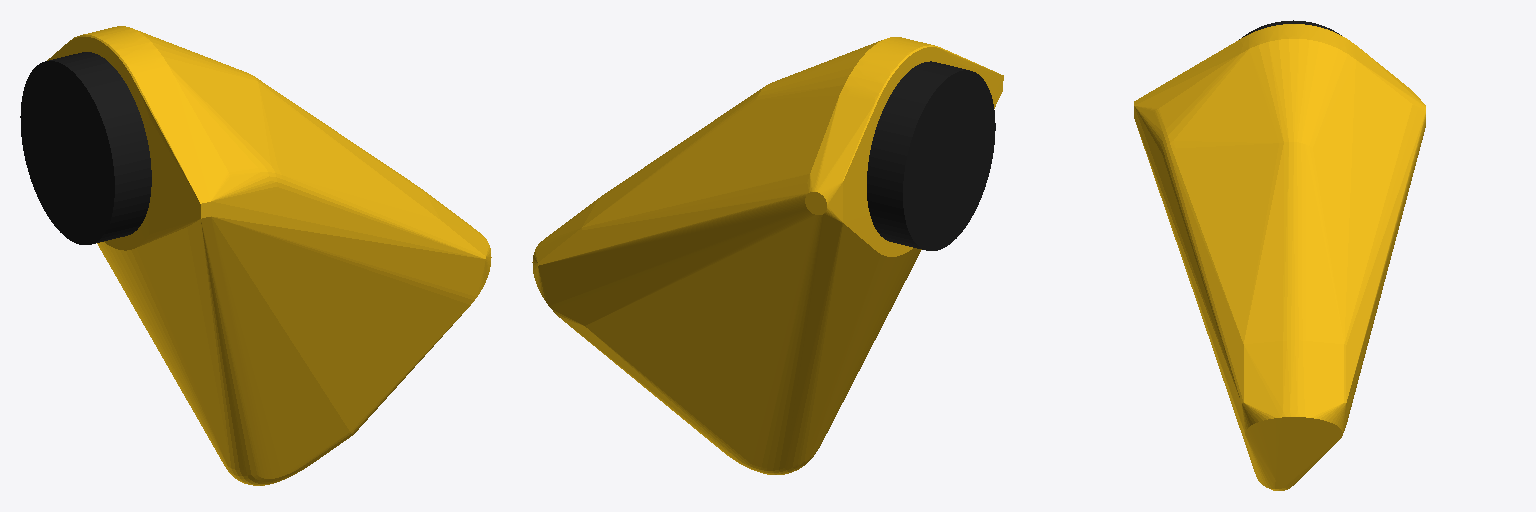
The robot description file, URDF, robot "fanuc_r2000ic165f":
<?xml version="1.0" encoding="utf-8" ?>
<!-- =================================================================================== -->
<!-- |    This document was autogenerated by xacro from r2000ic165f.xacro              | -->
<!-- |    EDITING THIS FILE BY HAND IS NOT RECOMMENDED                                 | -->
<!-- =================================================================================== -->
<robot name="fanuc_r2000ic165f">
  <!-- links: main serial chain -->
  <link name="base_link">
    <visual>
      <origin rpy="0 0 0" xyz="0 0 0"/>
      <geometry>
        <mesh filename="package://fanuc_r2000ic_support/meshes/r2000ic165f/visual/base_link.stl"/>
      </geometry>
      <material name="">
        <color rgba="0.4 0.4 0.4 1.0"/>
      </material>
    </visual>
    <collision>
      <origin rpy="0 0 0" xyz="0 0 0"/>
      <geometry>
        <mesh filename="package://fanuc_r2000ic_support/meshes/r2000ic165f/collision/base_link.stl"/>
      </geometry>
    </collision>
  </link>
  <link name="link_1">
    <visual>
      <origin rpy="0 0 0" xyz="0 0 0"/>
      <geometry>
        <mesh filename="package://fanuc_r2000ic_support/meshes/r2000ic165f/visual/link_1.stl"/>
      </geometry>
      <material name="">
        <color rgba="0.96 0.76 0.13 1.0"/>
      </material>
    </visual>
    <collision>
      <origin rpy="0 0 0" xyz="0 0 0"/>
      <geometry>
        <mesh filename="package://fanuc_r2000ic_support/meshes/r2000ic165f/collision/link_1.stl"/>
      </geometry>
    </collision>
  </link>
  <link name="link_2">
    <visual>
      <origin rpy="0 0 0" xyz="0 0 0"/>
      <geometry>
        <mesh filename="package://fanuc_r2000ic_support/meshes/r2000ic165f/visual/link_2.stl"/>
      </geometry>
      <material name="">
        <color rgba="0.96 0.76 0.13 1.0"/>
      </material>
    </visual>
    <collision>
      <origin rpy="0 0 0" xyz="0 0 0"/>
      <geometry>
        <mesh filename="package://fanuc_r2000ic_support/meshes/r2000ic165f/collision/link_2.stl"/>
      </geometry>
    </collision>
  </link>
  <link name="link_3">
    <visual>
      <origin rpy="0 0 0" xyz="0 0 0"/>
      <geometry>
        <mesh filename="package://fanuc_r2000ic_support/meshes/r2000ic165f/visual/link_3.stl"/>
      </geometry>
      <material name="">
        <color rgba="0.96 0.76 0.13 1.0"/>
      </material>
    </visual>
    <collision>
      <origin rpy="0 0 0" xyz="0 0 0"/>
      <geometry>
        <mesh filename="package://fanuc_r2000ic_support/meshes/r2000ic165f/collision/link_3.stl"/>
      </geometry>
    </collision>
  </link>
  <link name="link_4">
    <visual>
      <origin rpy="0 0 0" xyz="0 0 0"/>
      <geometry>
        <mesh filename="package://fanuc_r2000ic_support/meshes/r2000ic165f/visual/link_4.stl"/>
      </geometry>
      <material name="">
        <color rgba="0.96 0.76 0.13 1.0"/>
      </material>
    </visual>
    <collision>
      <origin rpy="0 0 0" xyz="0 0 0"/>
      <geometry>
        <mesh filename="package://fanuc_r2000ic_support/meshes/r2000ic165f/collision/link_4.stl"/>
      </geometry>
    </collision>
  </link>
  <link name="link_5">
    <visual>
      <origin rpy="0 0 0" xyz="0 0 0"/>
      <geometry>
        <mesh filename="package://fanuc_r2000ic_support/meshes/r2000ic165f/visual/link_5.stl"/>
      </geometry>
      <material name="">
        <color rgba="0.96 0.76 0.13 1.0"/>
      </material>
    </visual>
    <collision>
      <origin rpy="0 0 0" xyz="0 0 0"/>
      <geometry>
        <mesh filename="package://fanuc_r2000ic_support/meshes/r2000ic165f/collision/link_5.stl"/>
      </geometry>
    </collision>
  </link>
  <link name="link_6">
    <visual>
      <origin rpy="0 0 0" xyz="0 0 0"/>
      <geometry>
        <mesh filename="package://fanuc_r2000ic_support/meshes/r2000ic165f/visual/link_6.stl"/>
      </geometry>
      <material name="">
        <color rgba="0.15 0.15 0.15 1.0"/>
      </material>
    </visual>
    <collision>
      <origin rpy="0 0 0" xyz="0 0 0"/>
      <geometry>
        <mesh filename="package://fanuc_r2000ic_support/meshes/r2000ic165f/collision/link_6.stl"/>
      </geometry>
    </collision>
  </link>
  <link name="ef">
      <visual>
        <origin rpy="0 0 0" xyz="0 0 0"/>
        <geometry>
          <mesh filename="package://fanuc_r2000ic_support/meshes/r2000ic165f/visual/ef.stl"/>
        </geometry>
        <material name="">
          <color rgba="0.96 0.76 0.13 1.0"/>
        </material>
      </visual>
      <collision>
        <origin rpy="0 0 0" xyz="0 0 0"/>
        <geometry>
          <mesh filename="package://fanuc_r2000ic_support/meshes/r2000ic165f/collision/ef.stl"/>
        </geometry>
      </collision>
    </link>

<!--
<link name="part_link">
  <visual>
    <origin xyz="0 0 0" rpy="0 0 0"/>
    <geometry>
      <mesh filename="package://fanuc_r2000ic_support/meshes/r2000ic165f/visual/sandpart.stl"/>
    </geometry>
    <material name="">
      <color rgba="0.9 0.7 0.4 1.0"/>
    </material>
  </visual>

</link>

  <joint name="world_part_link" type="fixed">
      <parent link="base_link" />
      <child link="part_link" />
      <origin rpy="0 0 0" xyz="1.4 -0.4 0.6" />
  </joint>-->

<link name="gazebo_camera_link" />
<joint name="gazebo_camera_joint" type="fixed">
    <origin xyz="0.0 0.0 0.0" rpy="1.57 -1.57 0.0"/>
    <parent link="camera_link_optical"/>
    <child link="gazebo_camera_link"/>
</joint>
<link name="camera_link_optical" />
<joint name="camera_optical_joint" type="fixed">
    <origin xyz="-0.021 0.0797 0.06525" rpy="-0.7854 0 0"/>
    <parent link="link_6"/>
    <child link="camera_link_optical"/>
</joint>
<link name="camera_link" />
<joint name="camera_link_joint" type="fixed">
    <origin xyz="0.0 0.0 0.0" rpy="1.57 -1.57 0"/>
    <parent link="camera_link_optical"/>
    <child link="camera_link"/>
</joint>

  <!-- joints: main serial chain -->
  <joint name="joint_1" type="revolute">
    <origin rpy="0 0 0" xyz="0 0 0"/>
    <parent link="base_link"/>
    <child link="link_1"/>
    <axis xyz="0 0 1"/>
    <limit effort="0" lower="-3.22885911619" upper="3.22885911619" velocity="2.26892802759"/>
  </joint>
  <joint name="joint_2" type="revolute">
    <origin rpy="0 0 0" xyz="0.312 0 0.670"/>
    <parent link="link_1"/>
    <child link="link_2"/>
    <axis xyz="0 1 0"/>
    <limit effort="0" lower="-1.0471975512" upper="1.32645023152" velocity="2.00712863979"/>
  </joint>
  <joint name="joint_3" type="revolute">
    <origin rpy="0 0 0" xyz="0 0 1.075"/>
    <parent link="link_2"/>
    <child link="link_3"/>
    <axis xyz="0 -1 0"/>
    <limit effort="0" lower="-2.30383461263" upper="3.14159265359" velocity="2.18166156499"/>
  </joint>
  <joint name="joint_4" type="revolute">
    <origin rpy="0 0 0" xyz="0 0 0.225"/>
    <parent link="link_3"/>
    <child link="link_4"/>
    <axis xyz="-1 0 0"/>
    <limit effort="0" lower="-6.28318530718" upper="6.28318530718" velocity="3.14159265359"/>
  </joint>
  <joint name="joint_5" type="revolute">
    <origin rpy="0 0 0" xyz="1.280 0 0"/>
    <parent link="link_4"/>
    <child link="link_5"/>
    <axis xyz="0 -1 0"/>
    <limit effort="0" lower="-2.18166156499" upper="2.18166156499" velocity="3.14159265359"/>
  </joint>
  <joint name="joint_6" type="revolute">
    <origin rpy="0 0 0" xyz="0.215 0 0"/>
    <parent link="link_5"/>
    <child link="link_6"/>
    <axis xyz="-1 0 0"/>
    <limit effort="0" lower="-6.28318530718" upper="6.28318530718" velocity="4.53785605519"/>
  </joint>
  <!-- ROS-Industrial 'base' frame: base_link to Fanuc World Coordinates transform -->
  <link name="base"/>
  <joint name="base_link-base" type="fixed">
    <origin rpy="0 0 0" xyz="0 0 0.670"/>
    <parent link="base_link"/>
    <child link="base"/>
  </joint>
  <!-- ROS-Industrial 'flange' frame: attachment point for EEF models -->
  <link name="flange"/>
  <joint name="joint_6-flange" type="fixed">
    <origin rpy="0 0 0" xyz="0 0 0"/>
    <parent link="link_6"/>
    <child link="flange"/>
  </joint>
  <!-- ROS-Industrial 'tool0' frame: all-zeros tool frame -->
  <link name="tool0"/>
  <joint name="flange-tool0" type="fixed">
    <origin rpy="0 1.57079632679 0" xyz="0 0 0"/>
    <parent link="flange"/>
    <child link="tool0"/>
  </joint>
  <joint name="flange-ef" type="fixed">
      <origin rpy="3.14159265359 -1.57079632679 0" xyz="0 0 0"/>
      <parent link="flange"/>
      <child link="ef"/>
    </joint>



<transmission name="joint_1">
    <type>transmission_interface/SimpleTransmission</type>
    <joint name="joint_1">
        <hardwareInterface>hardware_interface/EffortJointInterface</hardwareInterface>
    </joint>
    <actuator name="joint_1_motor">
        <hardwareInterface>hardware_interface/EffortJointInterface</hardwareInterface>
        <mechanicalReduction>1</mechanicalReduction>
    </actuator>
</transmission>

<gazebo reference="base_link">
    <selfCollide>true</selfCollide>
</gazebo>
<gazebo reference="link_1">
    <selfCollide>true</selfCollide>
</gazebo>
<gazebo reference="link_2">
    <selfCollide>true</selfCollide>
</gazebo>
<gazebo reference="link_3">
    <selfCollide>true</selfCollide>
</gazebo>
<gazebo reference="link_4">
    <selfCollide>true</selfCollide>
</gazebo>
<gazebo reference="link_5">
    <selfCollide>true</selfCollide>
</gazebo>
<gazebo reference="link_6">
    <selfCollide>true</selfCollide>
</gazebo>
<gazebo reference="ef">
    <selfCollide>true</selfCollide>
</gazebo>
<gazebo reference="joint_1">
    <selfCollide>true</selfCollide>
</gazebo>
<gazebo reference="joint_2">
    <selfCollide>true</selfCollide>
</gazebo>
<gazebo reference="joint_3">
    <selfCollide>true</selfCollide>
</gazebo>


<gazebo reference="base">
    <selfCollide>true</selfCollide>
</gazebo>
<gazebo reference="flange">
    <selfCollide>true</selfCollide>
</gazebo>
<gazebo reference="tool0">
    <selfCollide>true</selfCollide>
</gazebo>
<gazebo reference="gazebo_camera_link">
    <sensor type="depth" name="sensor_name">
      <!-- Set always_on only sensor, not on plugin -->
      <always_on>1</always_on>
      <!-- Set update_rate only sensor, not on plugin -->
      <update_rate>5</update_rate>
      <camera name="camera_name">
        <image>
          <width>320</width>
          <height>200</height>
        </image>
        <distortion>
          <k1>-0.0</k1>
          <k2>0.0</k2>
          <k3>0.0</k3>
          <p1>-0.0</p1>
          <p2>-0.0</p2>
          <center>0.5 0.5</center>
        </distortion>
      </camera>
      <plugin name="plugin_name" filename="libgazebo_ros_camera.so">
        <!-- Change namespace, camera name and topics so:
             * Raw images are published to: /custom_ns/custom_camera/custom_image
             * Depth images are published to: /custom_ns/custom_camera/custom_image_depth
             * Raw image camera info is published to: /custom_ns/custom_camera/custom_info_raw
             * Depth image camera info is published to: /custom_ns/custom_camera/custom_info_depth
             * Point cloud is published to: /custom_ns/custom_camera/custom_points
        -->
        <ros>
          <namespace>custom_ns</namespace>
          <argument>camera/image_raw:=camera/custom_image</argument>
          <argument>camera/image_depth:=camera/custom_image_depth</argument>
          <argument>camera/camera_info:=camera/custom_info_raw</argument>
          <argument>camera/camera_info_depth:=camera/custom_info_depth</argument>
          <argument>camera/points:=camera/pointcloud</argument>
        </ros>
        <!-- Set camera name. If empty, defaults to sensor name (i.e. "sensor_name") -->
        <camera_name>camera</camera_name>
        <frame_name>camera_link_optical</frame_name>
        <!-- Set TF frame name. If empty, defaults to link name (i.e. "link_name") -->
        <hack_baseline>0.07</hack_baseline>
        <!-- No need to repeat distortion parameters or to set autoDistortion -->
         <min_depth>0.1</min_depth>
      </plugin>
    </sensor>
</gazebo>
<gazebo>
    <plugin name='gazebo_ros_joint_state_publisher' filename='libgazebo_ros_joint_state_publisher.so'>
      <ros>
          <namespace>/test</namespace>
          <argument>joint_states:=joint_states</argument>
      </ros>
      <update_rate>50</update_rate>
      <joint_name>joint_1</joint_name>
      <joint_name>joint_2</joint_name>
      <joint_name>joint_3</joint_name>
      <joint_name>joint_4</joint_name>
      <joint_name>joint_5</joint_name>
      <joint_name>joint_6</joint_name>
    </plugin>
    <plugin name='crs_gazebo_plugins_joint_pose_trajectory' filename='libcrs_gazebo_plugins_joint_pose_trajectory.so'>
        <ros>
          <namespace>sim</namespace>
          <argument>follow_joint_trajectory:=follow_joint_trajectory</argument>
        </ros>
        <update_rate>20</update_rate>
    </plugin>
</gazebo>



</robot>

--- Render facts (derived) ---
3 views of the same robot in one strip: view 1: azimuth 30°, elevation 25°; view 2: azimuth 150°, elevation 25°; view 3: azimuth 270°, elevation 25° (orthographic).
Robot: fanuc_r2000ic165f — 14 links, 13 joints (6 revolute, 7 fixed); root link base_link; default pose: every joint at zero.
Visible links, largest first — view 1: ef, link_6; view 2: ef, link_6; view 3: ef.
Boxes of the visible links, left/top/right/bottom form: ef: left=47, top=26, right=491, bottom=485; link_6: left=20, top=52, right=151, bottom=244; ef: left=532, top=37, right=1003, bottom=474; link_6: left=867, top=61, right=995, bottom=250; ef: left=1134, top=24, right=1425, bottom=490.
Bounding box of the posed robot: 0.4045 × 0.2921 × 0.4395 m (x, y, z).
Meshes: 8 distinct files referenced, 2 mesh visuals loaded (2 binary STL); not drawn: 6 (reference not matched to a file when rendering).